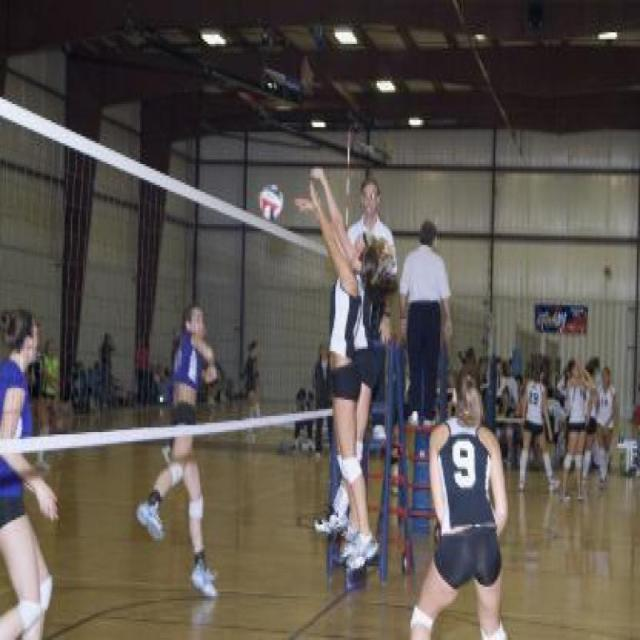volleyball: (258, 185, 284, 218)
